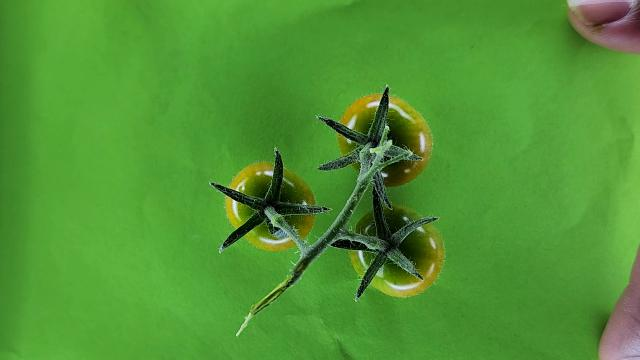Fully Grown: (347, 203, 445, 298), (336, 93, 433, 187), (224, 162, 317, 251)
